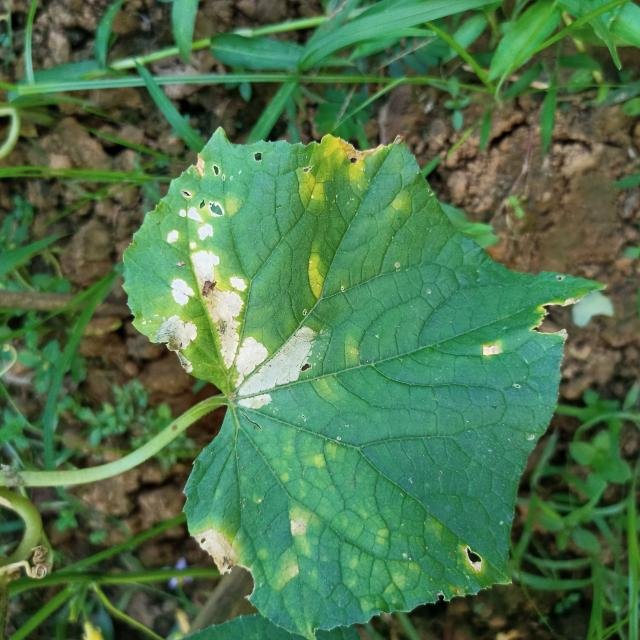disease_cucumber: (153, 149, 322, 416), (294, 130, 374, 214), (267, 496, 327, 592), (300, 244, 333, 304)
